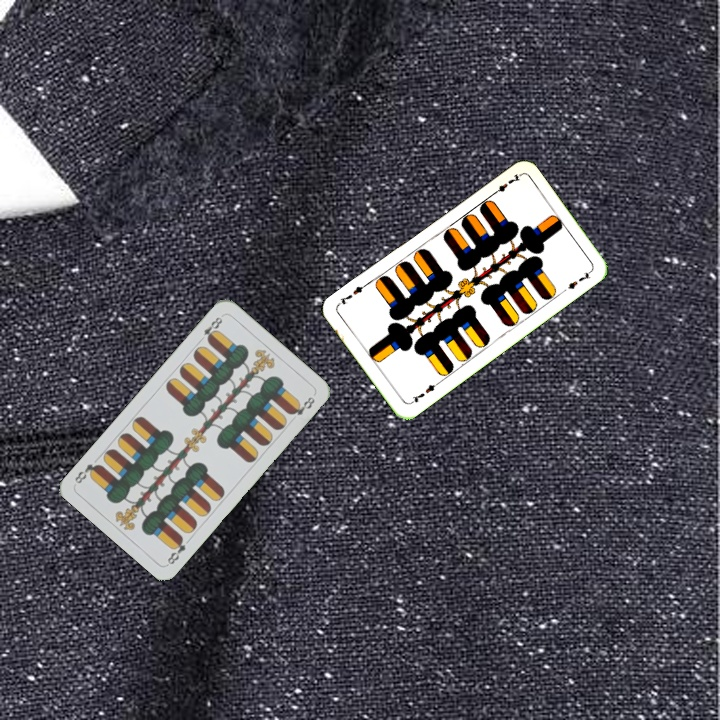E7: (487, 170, 523, 199), (406, 378, 441, 406)
E8: (195, 313, 225, 345), (163, 532, 188, 567)
